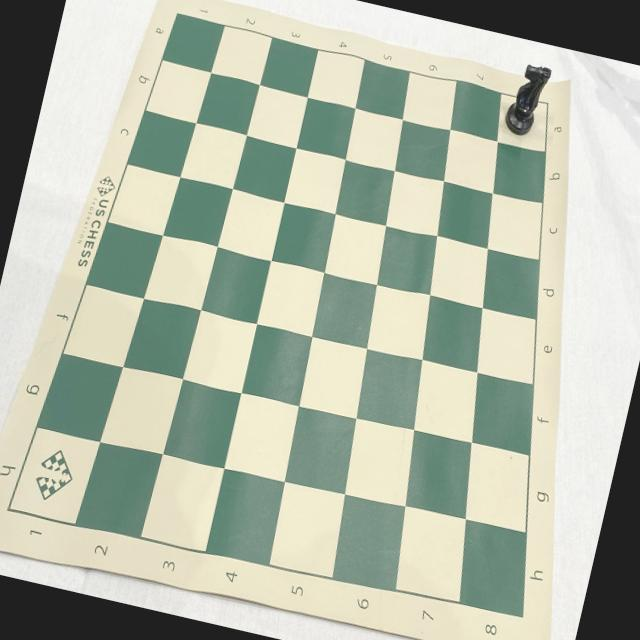black-knight: (500, 58, 551, 140)
